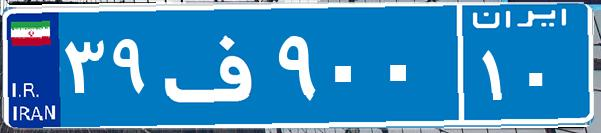0: (385, 28, 445, 110), (330, 28, 385, 110), (525, 38, 570, 115)
1: (475, 38, 525, 113)
3: (57, 26, 110, 107)
9: (273, 28, 330, 110), (110, 28, 158, 105)
ف: (158, 15, 273, 115)
